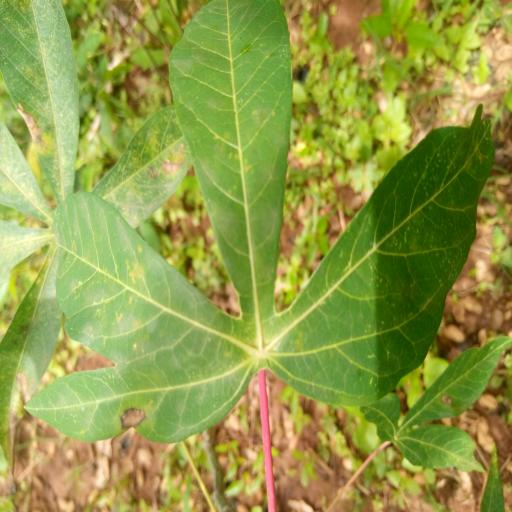Cassava_Brown_Leaf_Spot: (30, 0, 495, 440)
